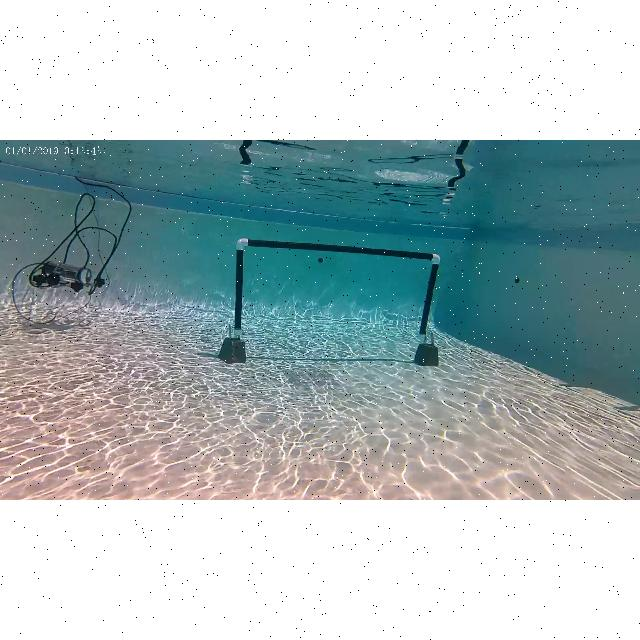prequal gate: (231, 238, 441, 339)
prequal gate leg l: (219, 240, 253, 368)
prequal gate leg r: (414, 250, 448, 366)
